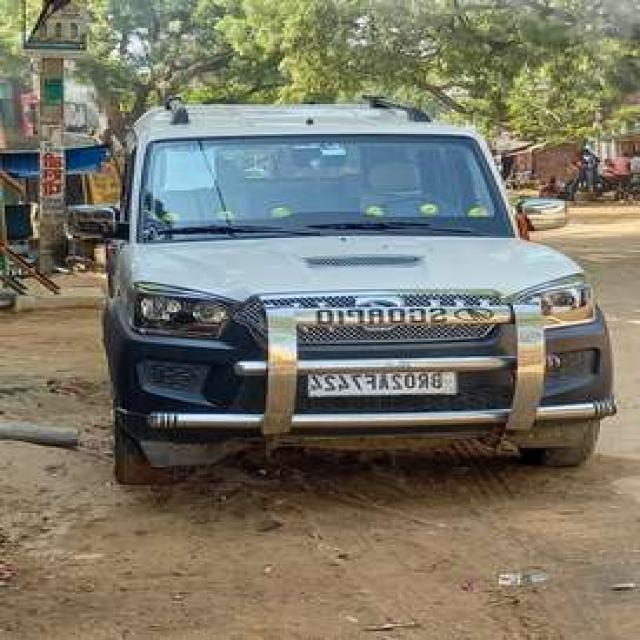license_plate: (303, 370, 460, 400)
